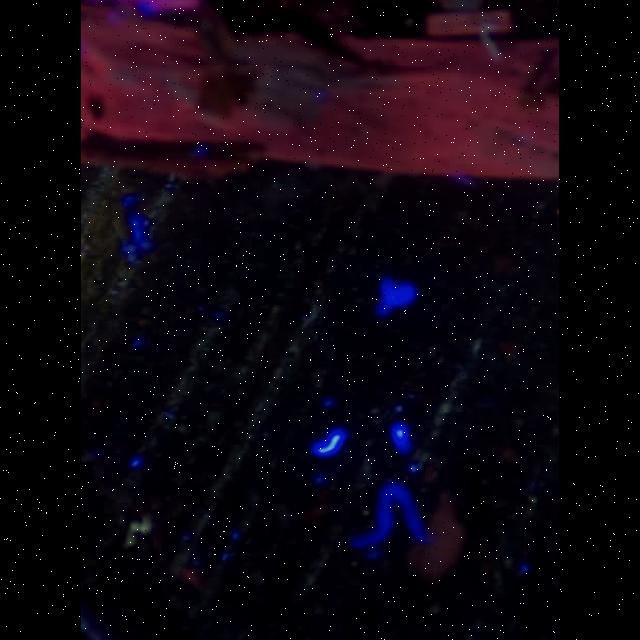Fibre: (120, 514, 156, 552)
